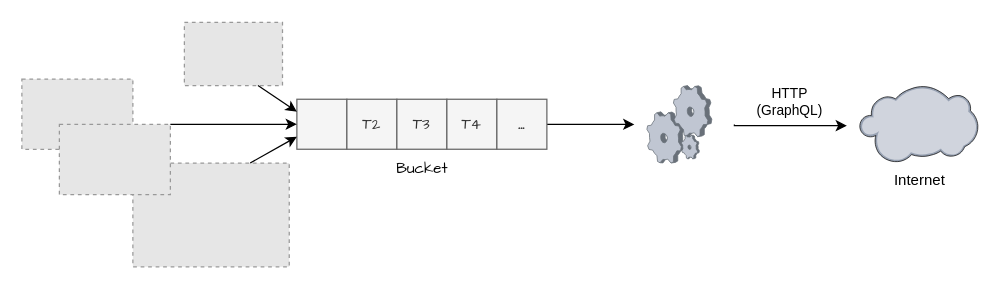
The diagram is 1000 pixels wide and 289 high, and some of its shapes have lost their labels. Grey dashed boxes stand in for pictures. The centre of each missing label's shape, as x and y in pixels:
"Generate mutations" belongs at point (678, 123).
"T1" belongs at point (321, 123).
